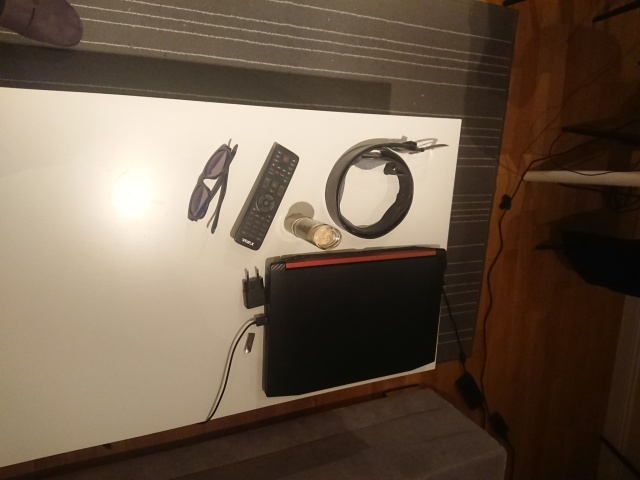Kotanyi Garlic Granules 70g: (282, 212, 345, 252)
